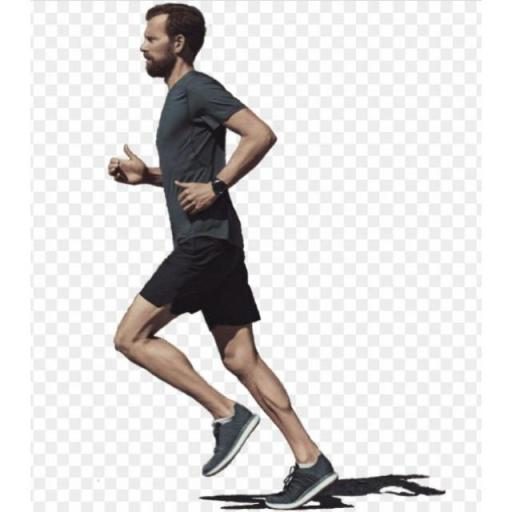Running: (102, 0, 338, 512)
